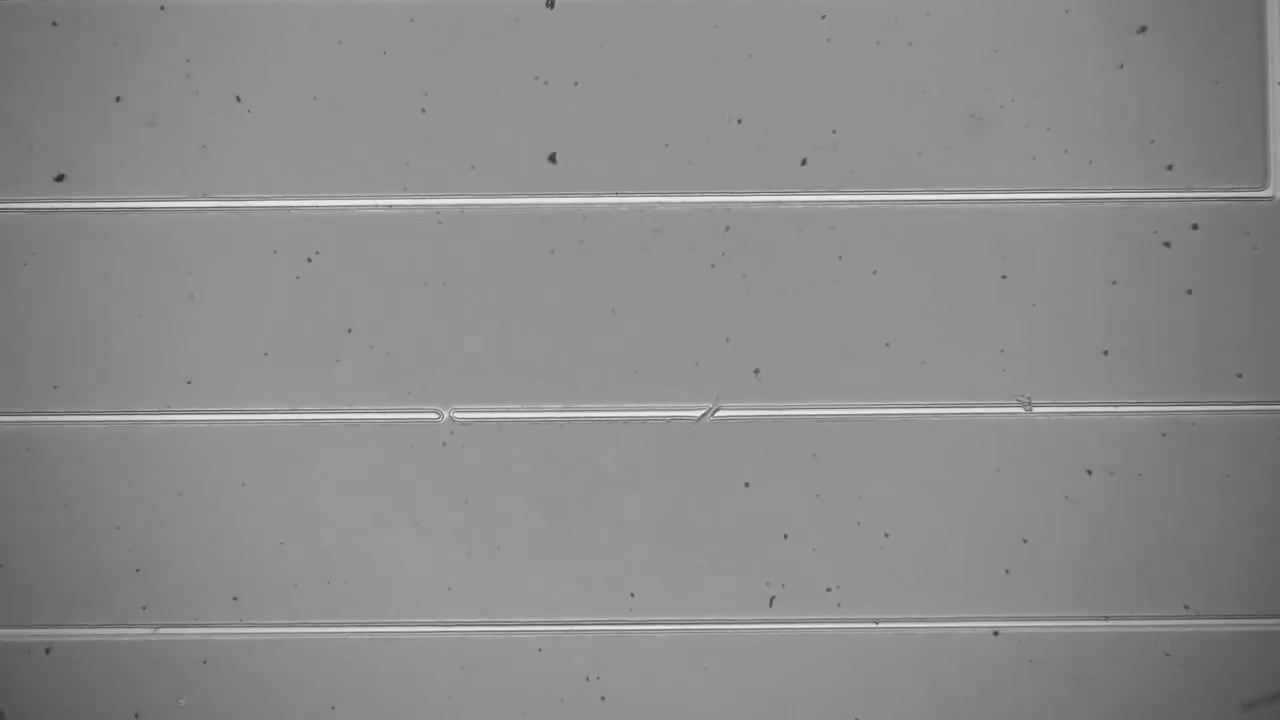open: (424, 396, 473, 432), (690, 395, 729, 430)
stains_enbedded: (1002, 383, 1044, 428)
